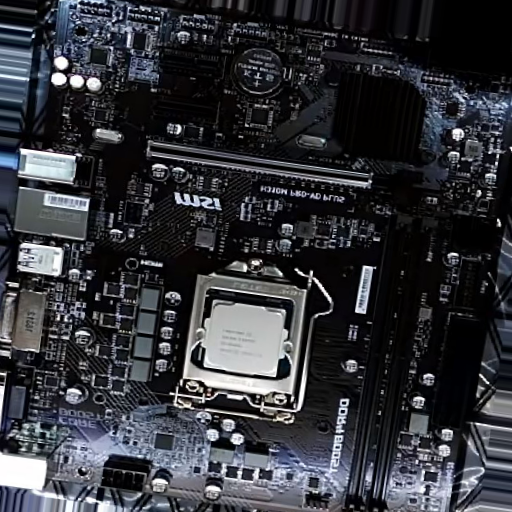CPU: (175, 260, 313, 420)
GPU: (145, 139, 426, 201)
MOTHERBOARD: (2, 7, 509, 512)
RAM: (347, 219, 431, 512)
